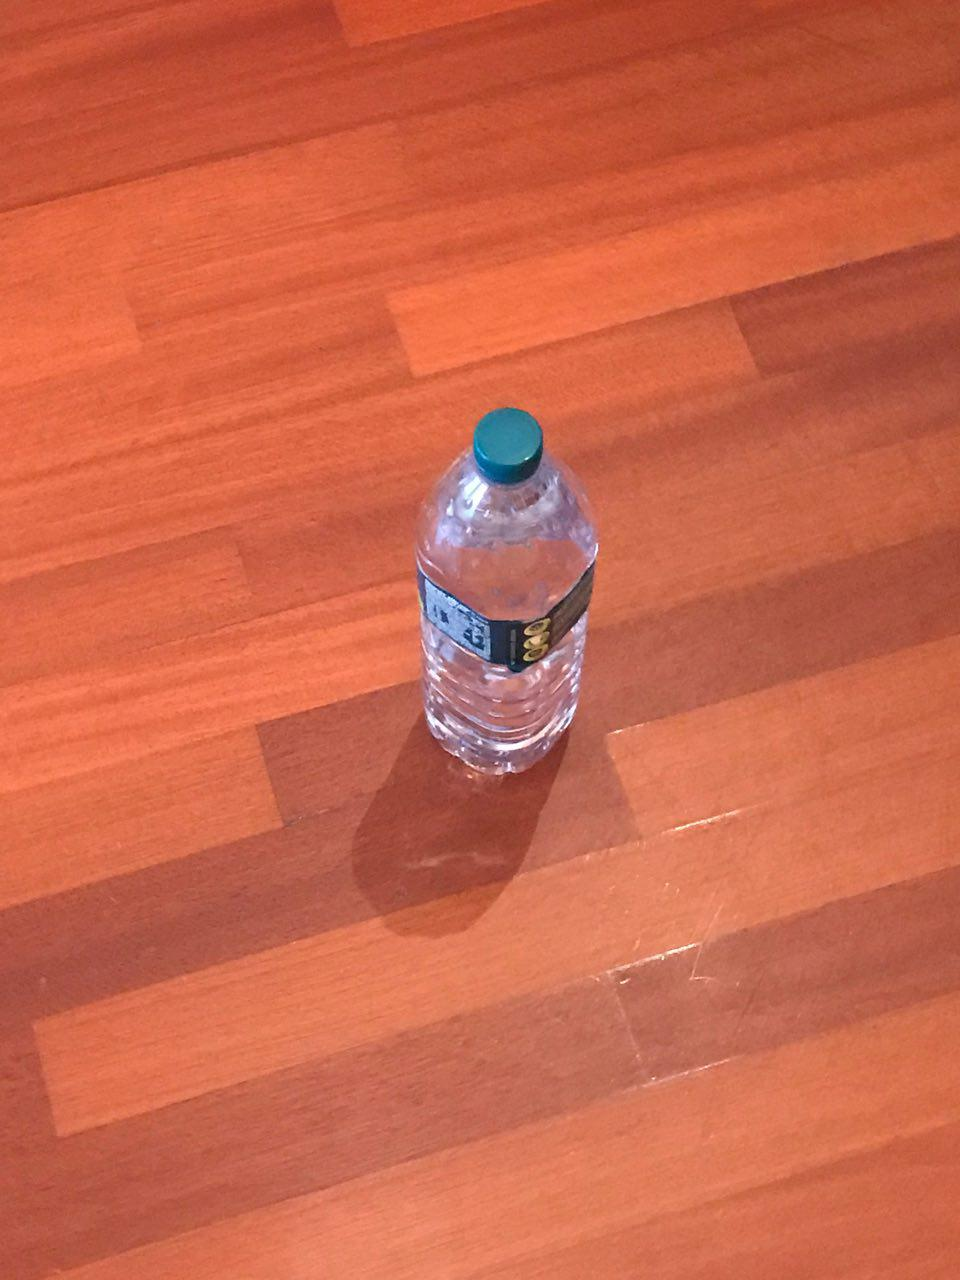san_bernardo: (414, 408, 600, 777)
